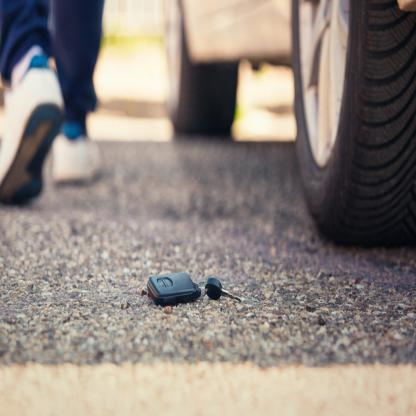keys: (203, 276, 244, 304)
